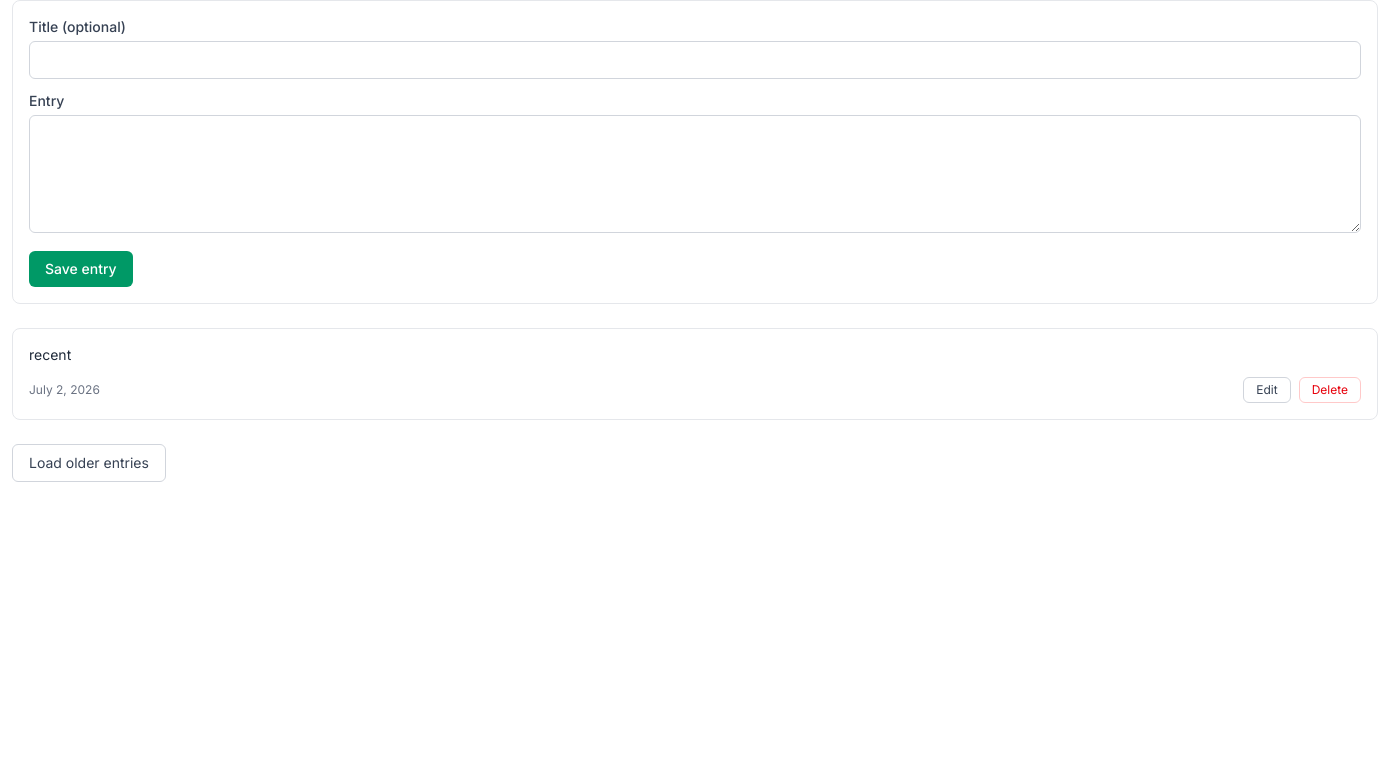
FEAT-H011 — JournalPanel (STORY-1..3) › loads older entries via keyset pagination (STORY-2)
Expected: the text "recent" is shown, [29,346,71,363]
Click the button "Load older entries": click(89, 463) [12,444,166,482]
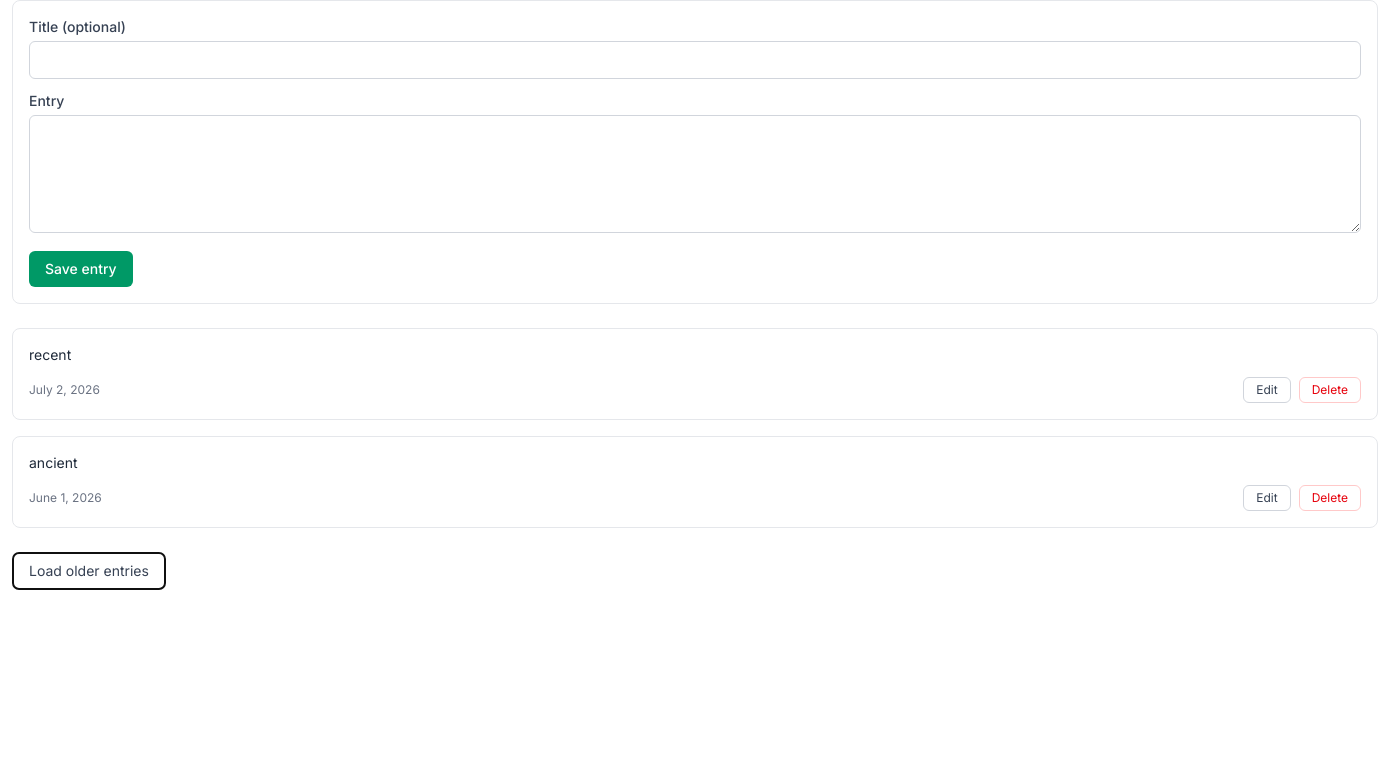
Expected: the text "recent" is shown, [29,346,71,363]
Expected: the text "ancient" is shown, [29,454,78,471]
